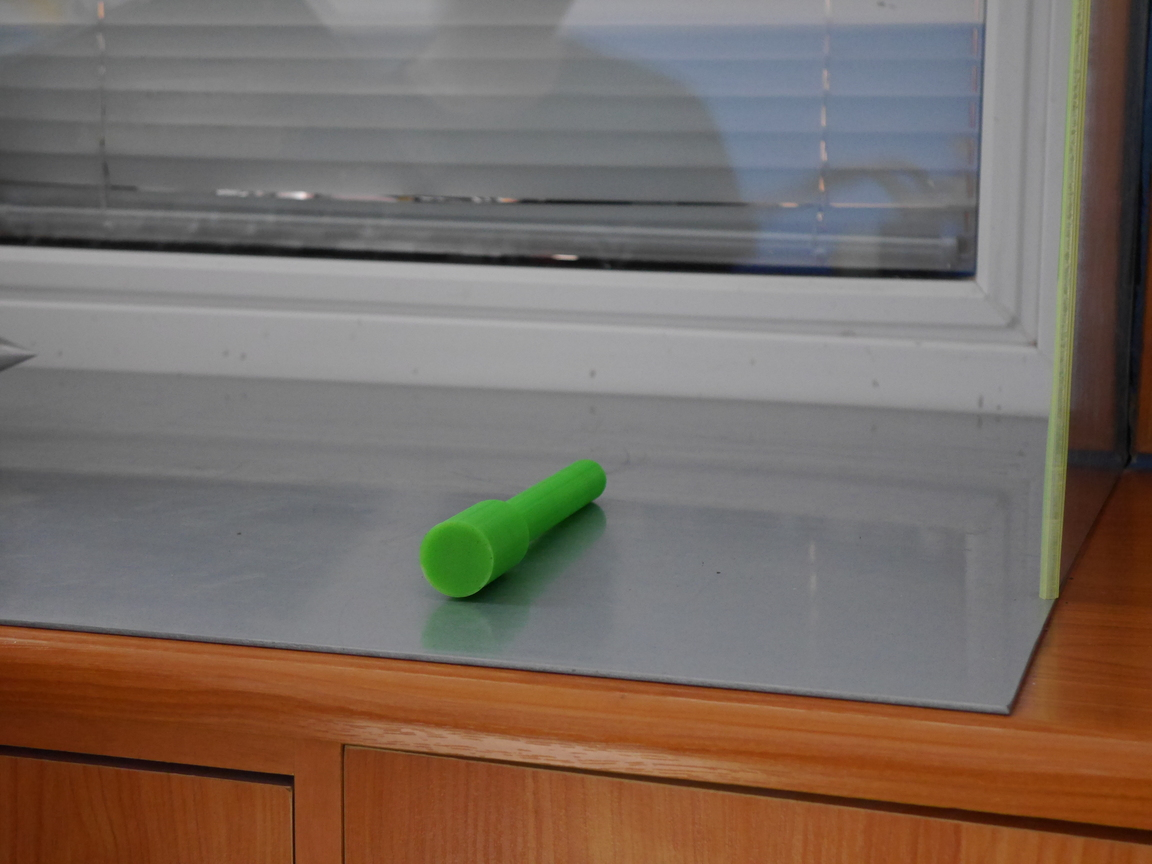cargo_g: (417, 459, 607, 601)
